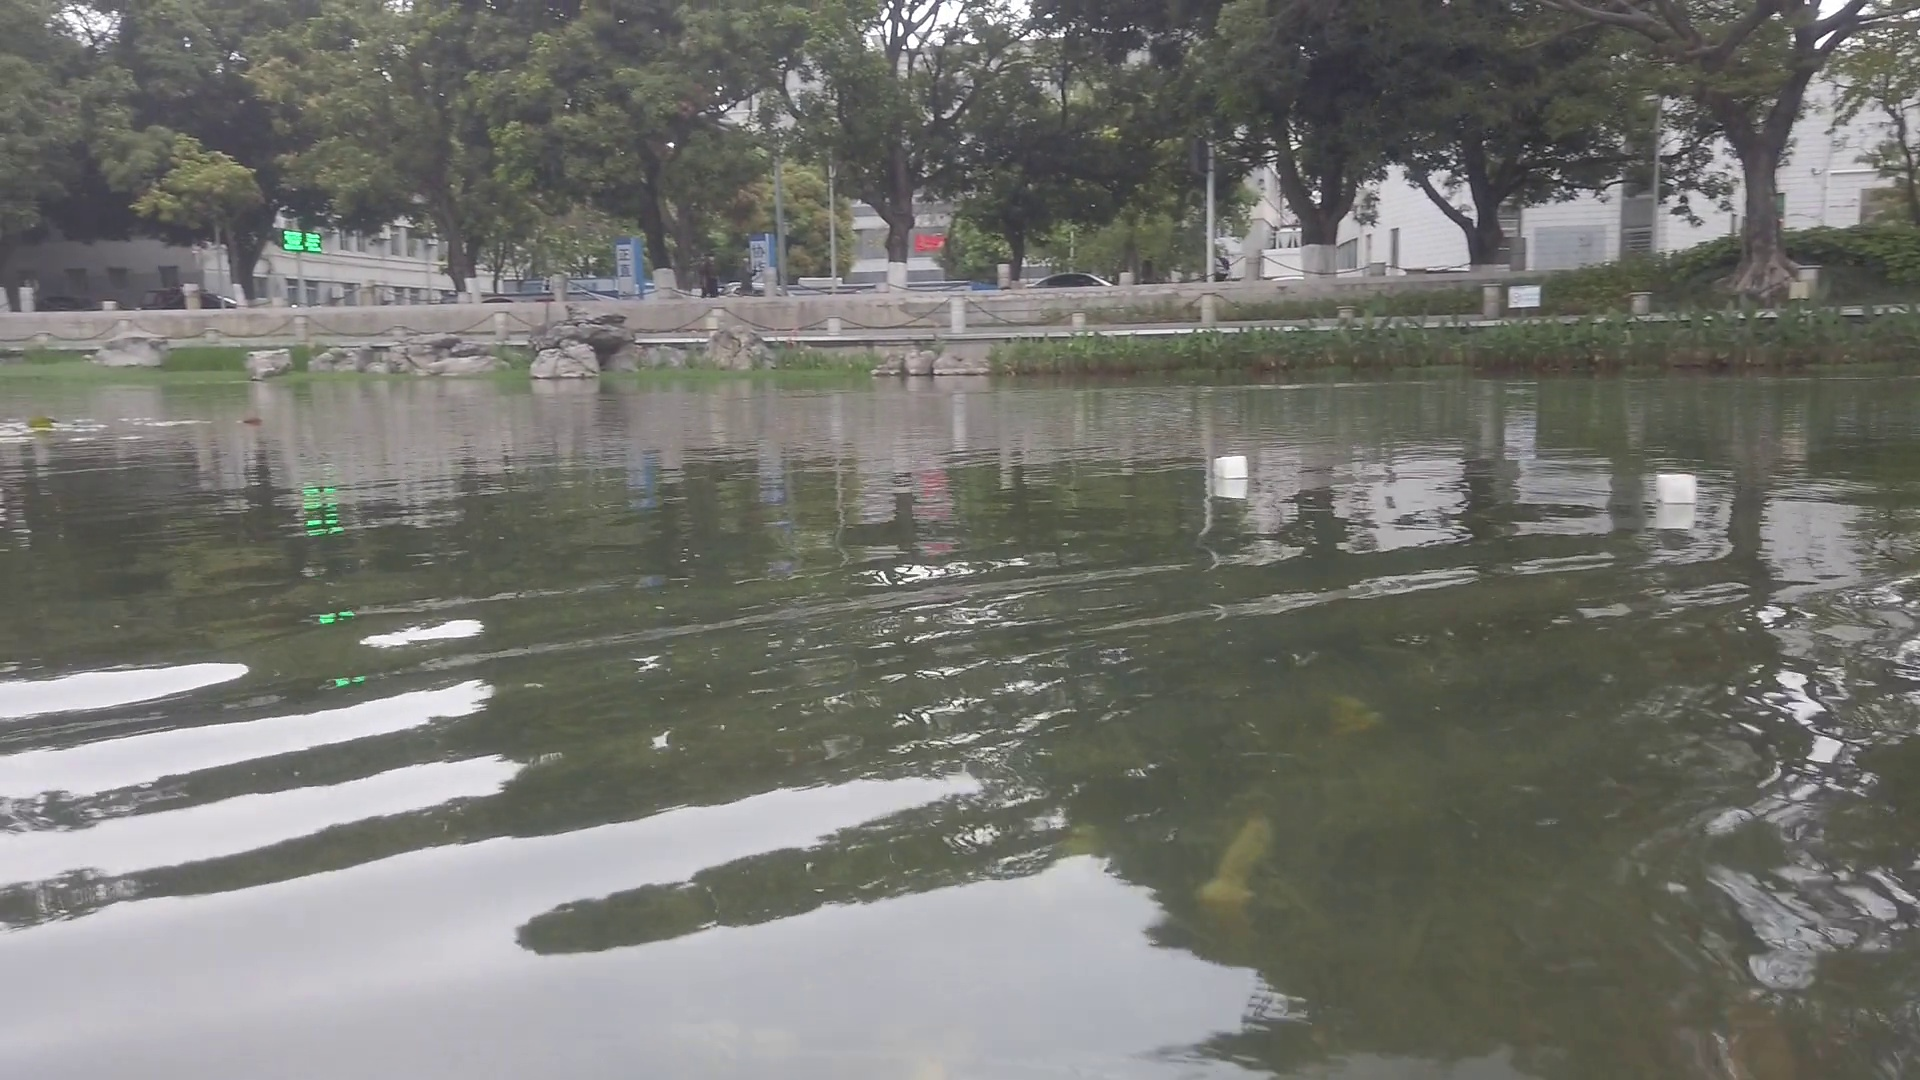carton: (1655, 469, 1698, 502), (1211, 454, 1251, 481)
